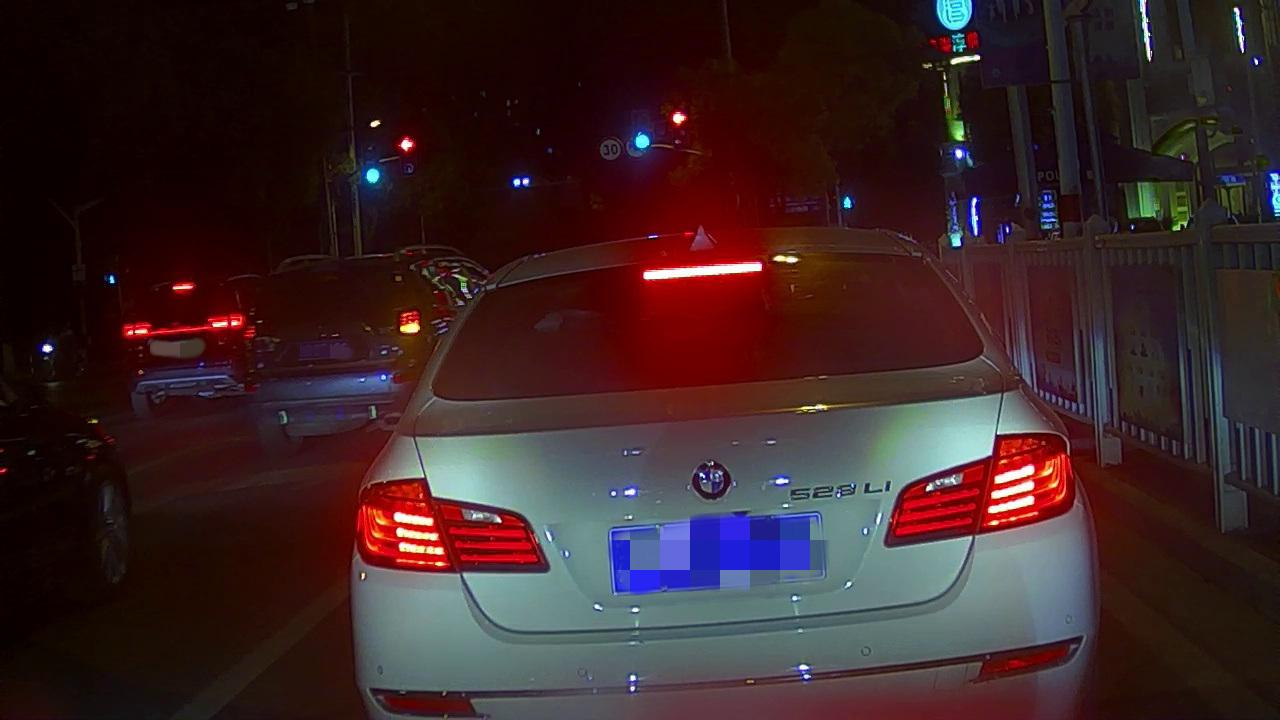traffic_light: (394, 131, 418, 156), (361, 163, 384, 187), (630, 129, 653, 151), (667, 109, 690, 129)
